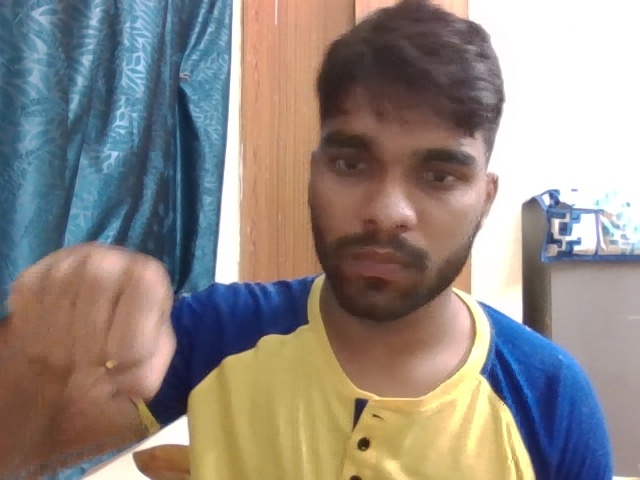Yes: (1, 233, 183, 418)
